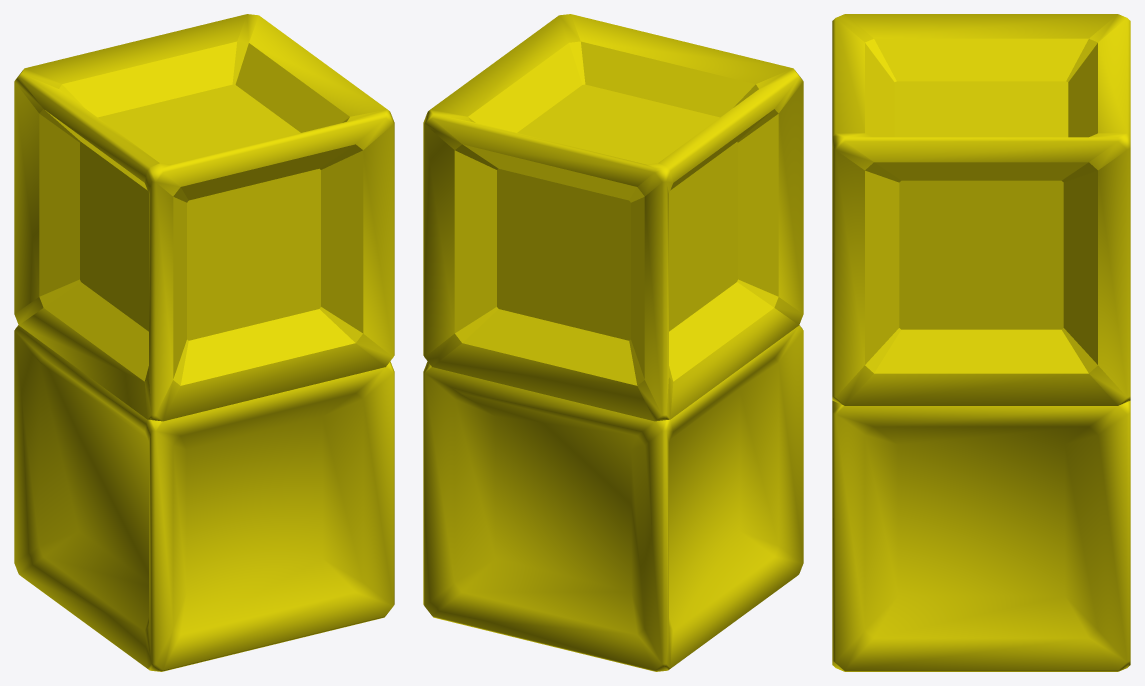
The model's file is yellowBlock.fbx.
The picture shows the model from 3 angles, left to right: view 1: azimuth 30°, elevation 25°; view 2: azimuth 150°, elevation 25°; view 3: azimuth 270°, elevation 25°; orthographic projection. The views are drawn at different scales.
Parts seen in each view (by area): view 1: YellowBlock; view 2: YellowBlock; view 3: YellowBlock.
Part boxes in pixels (left/top/right/bottom): YellowBlock: left=14, top=14, right=394, bottom=671; YellowBlock: left=423, top=14, right=803, bottom=671; YellowBlock: left=832, top=14, right=1130, bottom=671.
Size of the model in its own units: 196 by 388 by 196.
